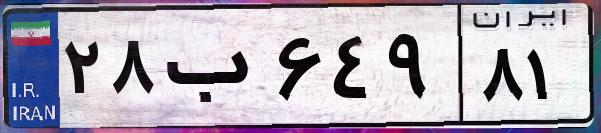1: (525, 38, 570, 115)
2: (57, 26, 110, 100)
4: (330, 28, 385, 110)
6: (270, 28, 330, 110)
8: (475, 38, 525, 113), (110, 28, 158, 98)
9: (385, 28, 445, 110)
ب: (158, 20, 270, 120)
